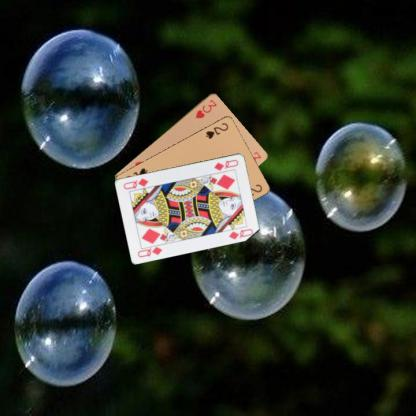2s: (203, 120, 229, 140)
3h: (193, 97, 218, 120)
Qd: (135, 241, 164, 258), (211, 156, 240, 172)
